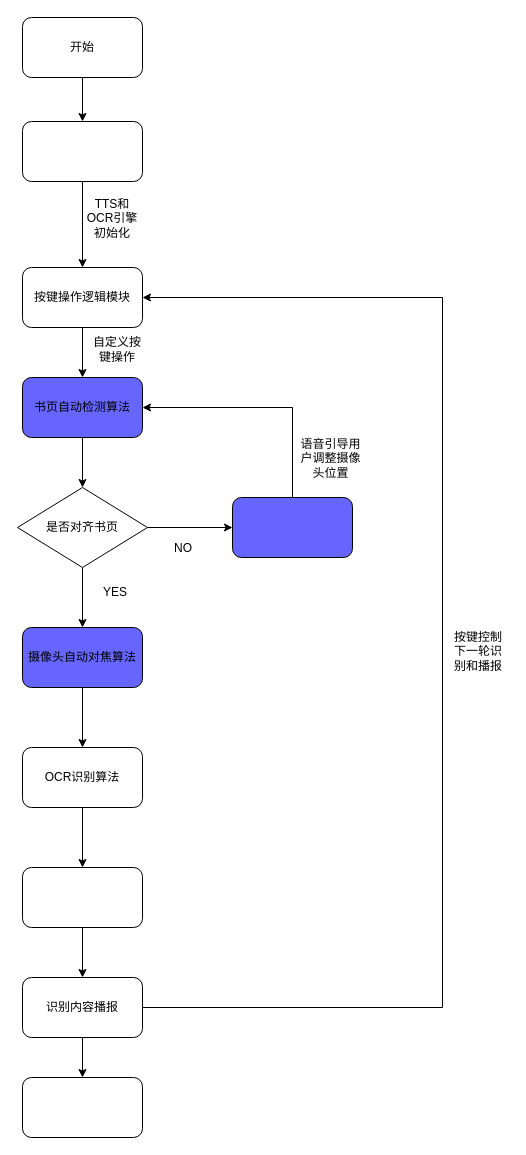
Some shapes in this 526 by 1155 pixel diagram are drawn without their labels. The shapes that lost their labels are listed below. From the top down, each one's centre as x and y in pixels, then its label:
At point 82,151: "程序初始化".
At point 292,527: "语音引导对齐模块".
At point 82,897: "识别结果后处理".
At point 82,1107: "结束".
